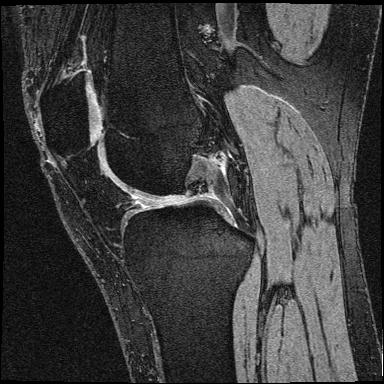SagKneeJointArea: (39, 70, 257, 267)
